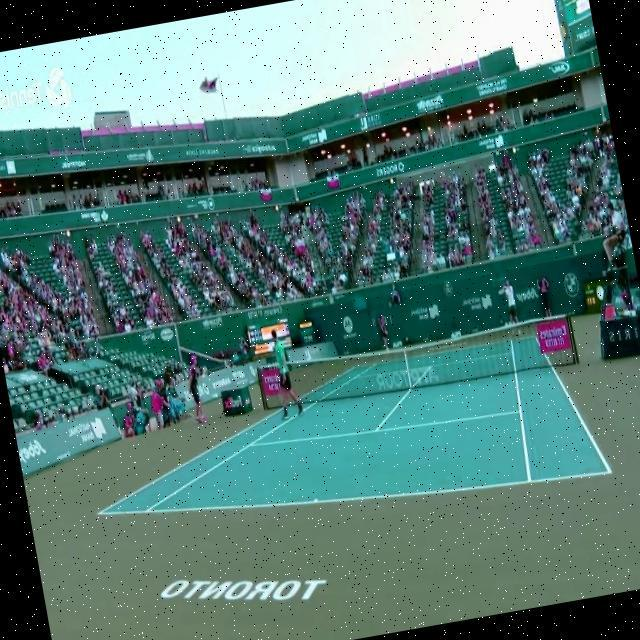court: (78, 324, 613, 564)
net: (252, 310, 580, 422)
player: (264, 326, 306, 422)
